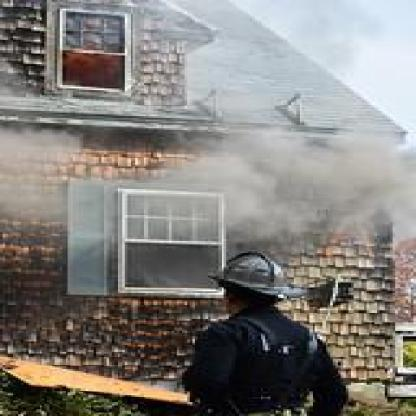smoke: (69, 124, 410, 235)
